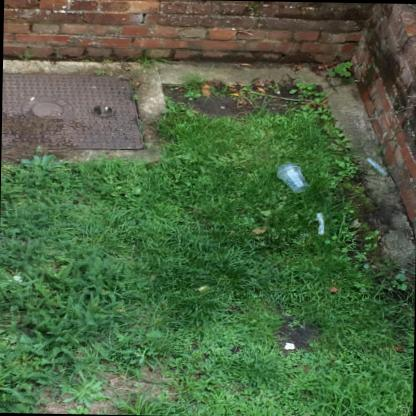Paper: (28, 97, 34, 101)
Plastic: (277, 166, 309, 192), (277, 163, 298, 175), (317, 212, 324, 234)
Waste: (366, 157, 386, 175)
